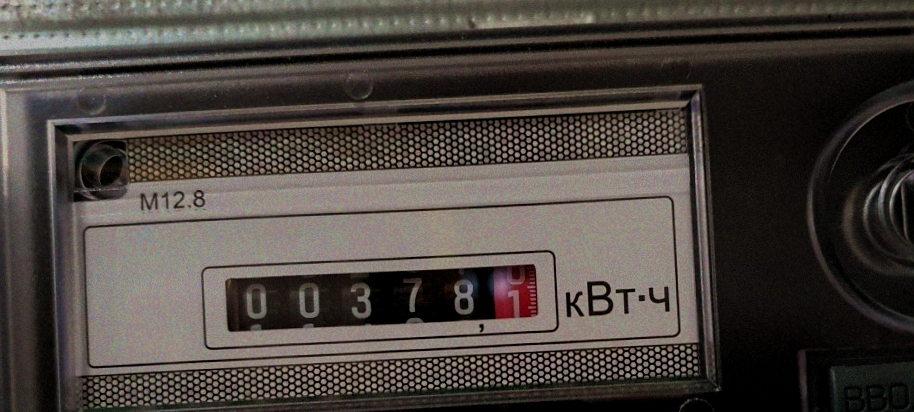0: (243, 279, 270, 320), (296, 279, 321, 318), (504, 263, 526, 285)
1: (504, 286, 523, 318)
3: (347, 279, 373, 320)
7: (400, 274, 423, 313)
8: (451, 275, 475, 316)
screen: (204, 245, 557, 341)
